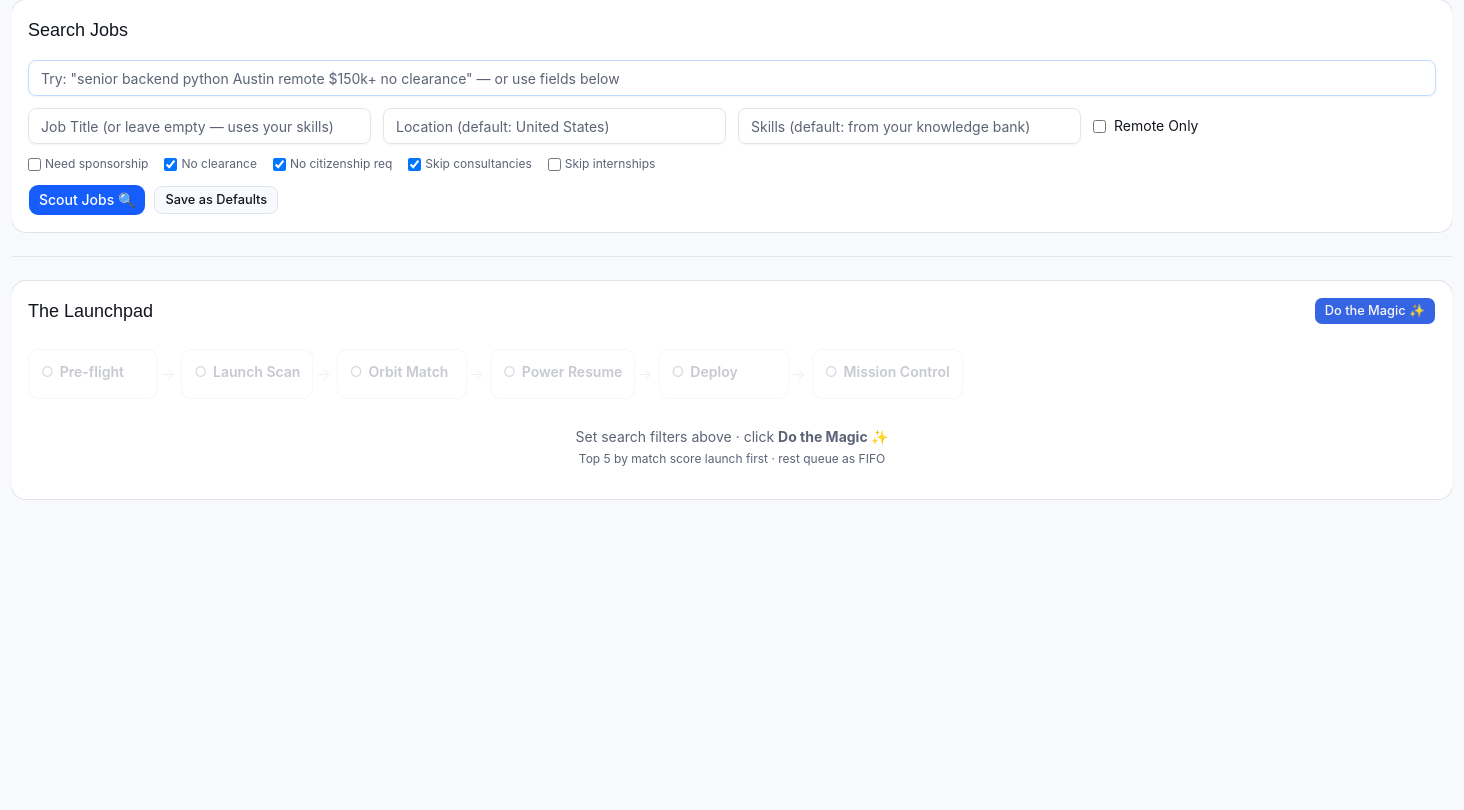
Test: JobSearchTab — selection + AI evaluate › Clear button removes results and the controls disappear
Click the button "Scout Jobs 🔍": click(87, 200) [28, 184, 146, 216]
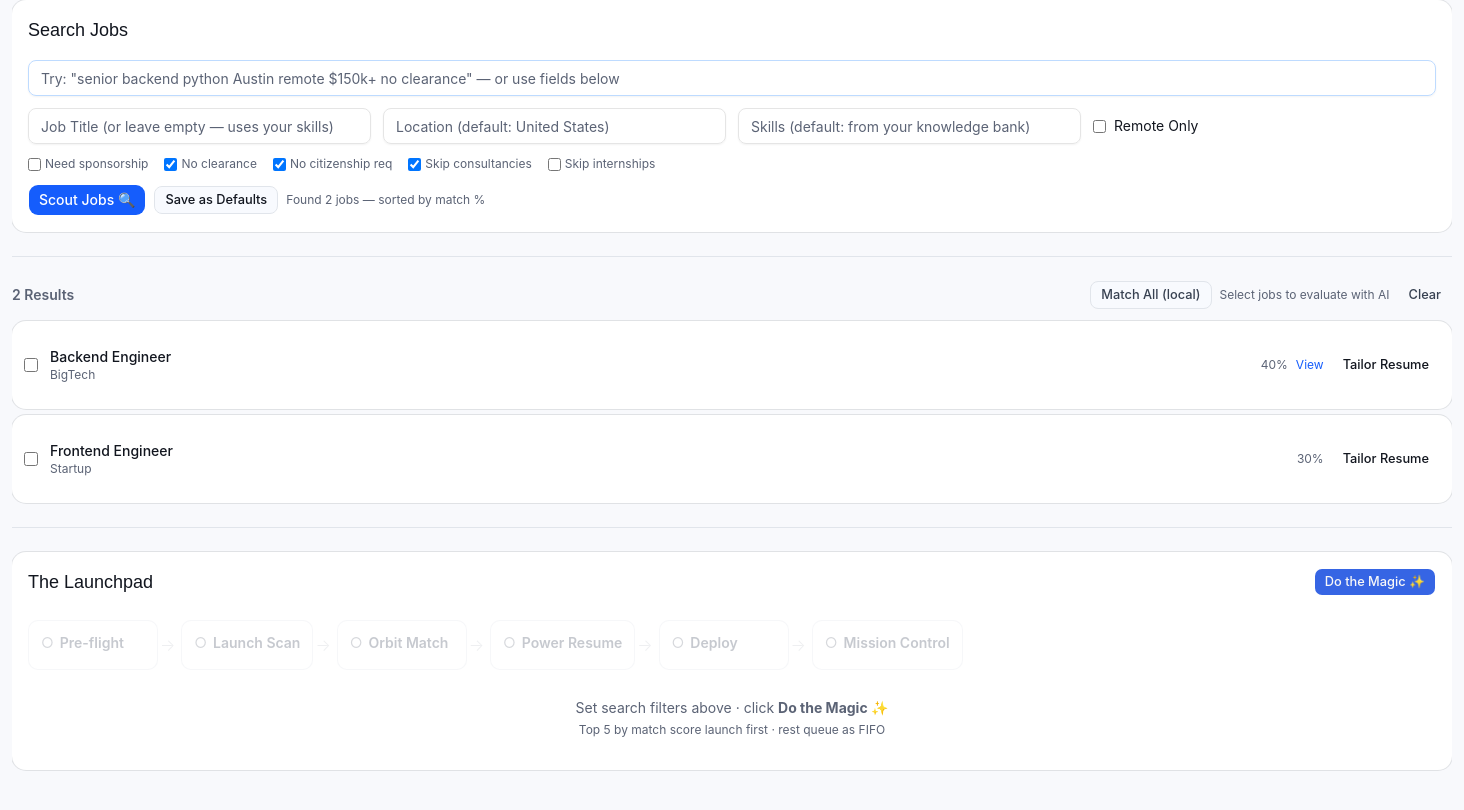
Check: the text "Backend Engineer" is shown, box [50, 347, 171, 367]
Check: the heading "2 Results" is shown, box [12, 285, 74, 305]
Click the button "Clear": click(1425, 295) [1398, 281, 1452, 309]
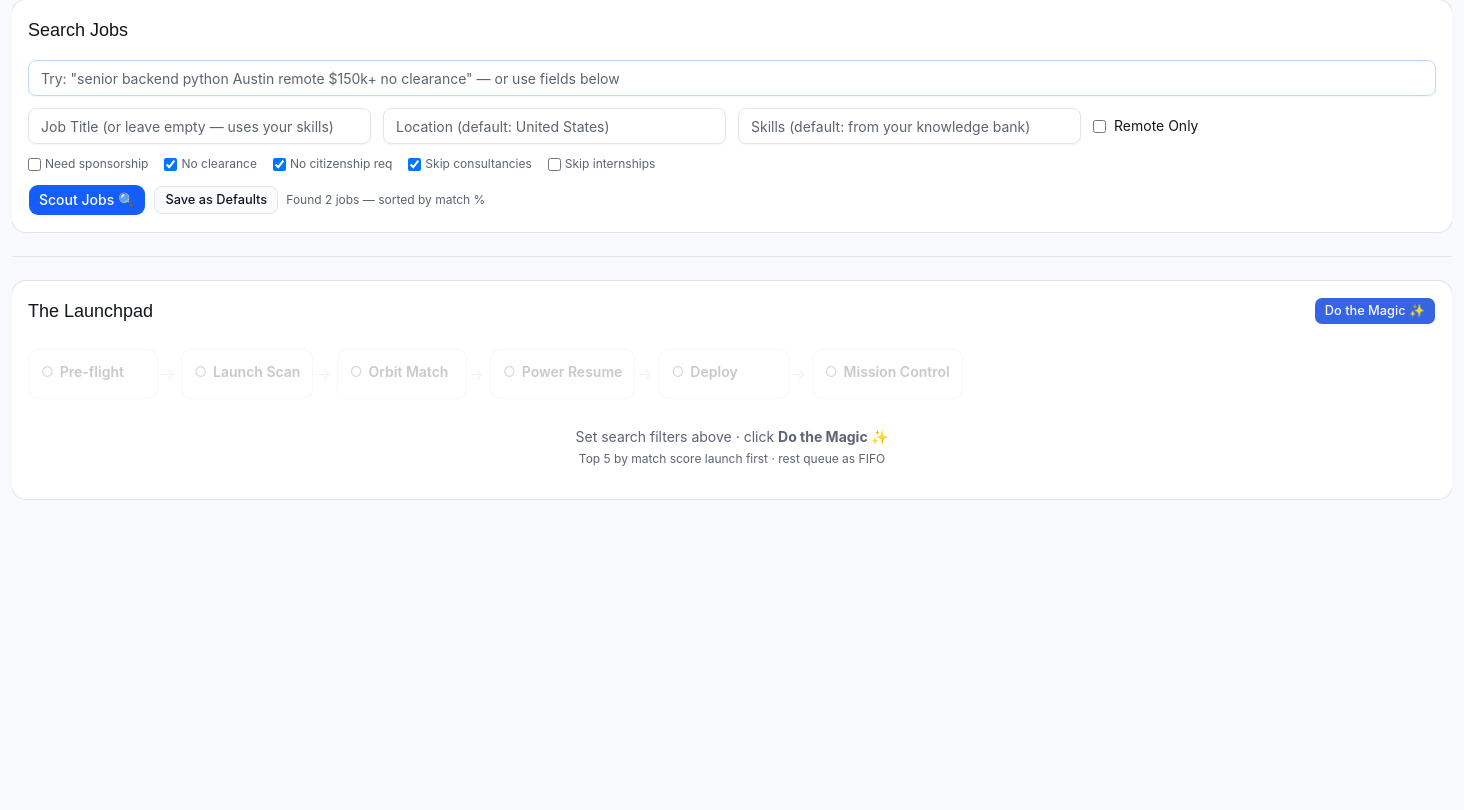
Check: the heading "2 Results" is gone
Check: the button "Match All" is gone
